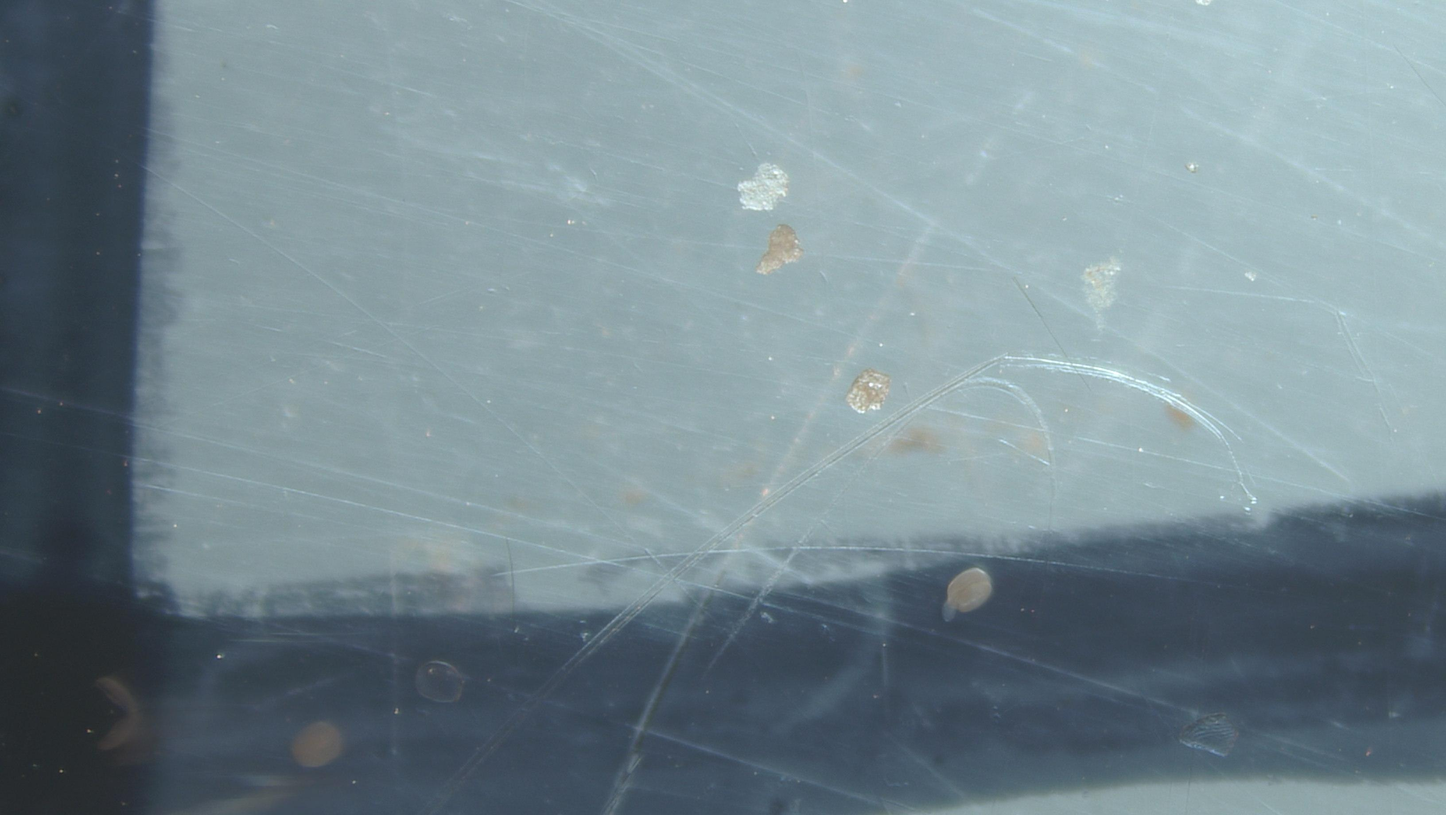dead: (415, 661, 468, 704)
live: (942, 567, 993, 622), (291, 721, 345, 769)
